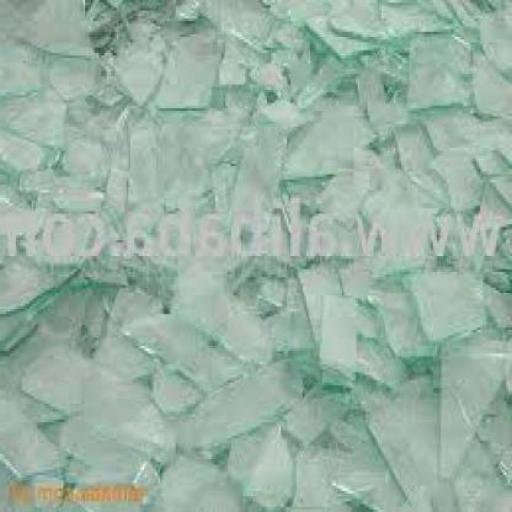glass: (1, 0, 512, 511), (180, 353, 305, 457), (364, 364, 452, 510), (2, 203, 112, 316), (47, 385, 178, 475), (440, 332, 510, 473), (170, 255, 264, 354), (30, 341, 139, 425), (130, 311, 245, 388), (87, 209, 190, 292), (354, 172, 439, 264), (306, 148, 392, 232), (360, 274, 435, 367), (290, 95, 372, 179), (121, 198, 192, 291), (226, 422, 300, 510), (1, 0, 102, 62), (240, 96, 294, 208), (403, 32, 477, 113), (46, 258, 114, 346), (79, 0, 202, 48), (293, 433, 369, 510), (409, 264, 488, 338), (271, 375, 352, 446), (439, 428, 510, 509), (156, 452, 255, 510), (271, 0, 389, 48), (2, 346, 76, 422), (160, 21, 222, 111), (2, 399, 61, 491), (69, 452, 160, 510), (111, 14, 167, 108), (6, 84, 81, 148), (110, 100, 155, 204), (24, 150, 104, 208), (227, 248, 291, 317), (166, 150, 225, 219), (364, 64, 415, 142), (191, 0, 283, 43), (300, 50, 372, 103), (270, 275, 315, 359), (427, 103, 510, 148), (340, 454, 406, 510), (480, 169, 511, 288), (298, 253, 338, 340), (381, 113, 435, 175), (2, 116, 56, 177), (320, 288, 358, 372), (93, 325, 158, 374), (196, 102, 254, 156), (2, 290, 53, 351), (437, 148, 492, 203), (59, 129, 113, 185), (480, 383, 511, 479), (474, 29, 512, 105), (2, 34, 50, 90), (156, 113, 192, 187), (314, 18, 384, 56), (222, 21, 267, 79), (126, 398, 180, 446), (390, 2, 458, 40), (2, 467, 63, 509), (328, 399, 380, 448), (44, 50, 102, 92), (257, 48, 308, 95), (111, 278, 167, 320), (150, 364, 202, 409), (266, 18, 314, 63), (198, 211, 235, 269), (484, 256, 510, 330), (453, 0, 511, 30), (2, 166, 37, 201)
